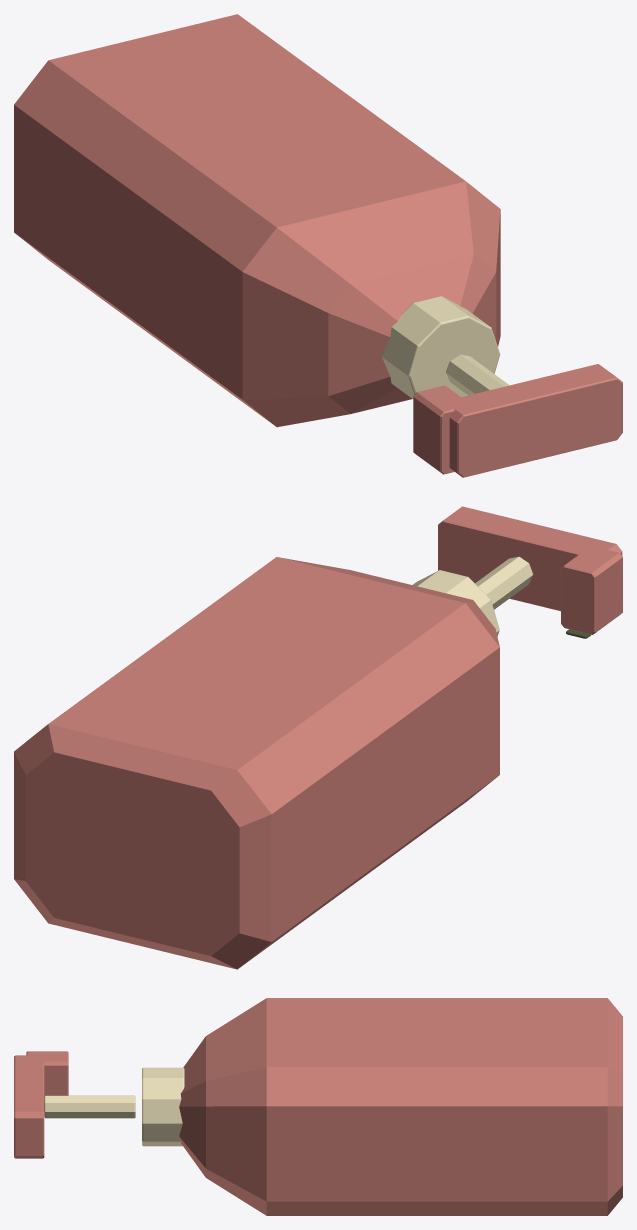
File: hand_soap.glb
3 views of the same model, one above another, from view 1: azimuth 30°, elevation 25°; view 2: azimuth 150°, elevation 25°; view 3: azimuth 270°, elevation 25° (orthographic). The views are drawn at different scales.
Visible parts, largest first — view 1: hand_soap; view 2: hand_soap; view 3: hand_soap.
Part boxes in pixels (bbox=[...]): hand_soap: bbox=[14, 14, 622, 477]; hand_soap: bbox=[14, 506, 622, 969]; hand_soap: bbox=[14, 998, 622, 1215].
Bounding box in the file's own units: 0.073 × 0.0564 × 0.2.
